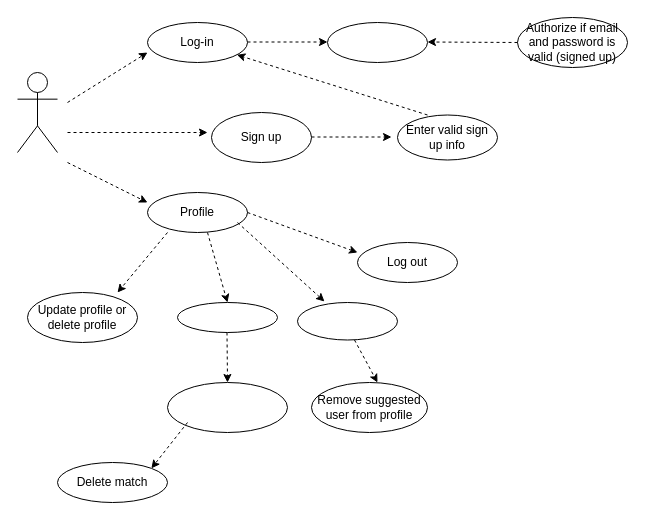
This 645x520 diagram has some shape labels left out. Each missing label, with the centre of its shape:
Actor: (x=37, y=112)
dislike other users: (x=347, y=321)
Enter email and password: (x=377, y=42)
like other users: (x=227, y=317)
Show matches for people who liked back: (x=227, y=407)
